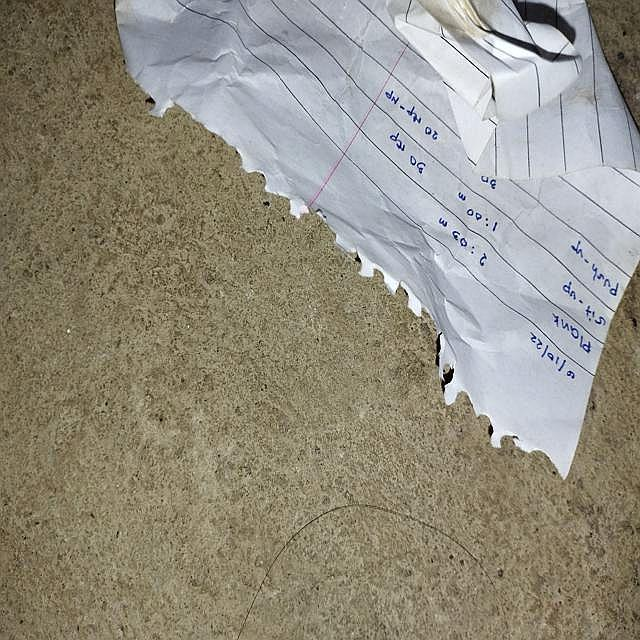Biodegradable: (115, 1, 640, 471)
